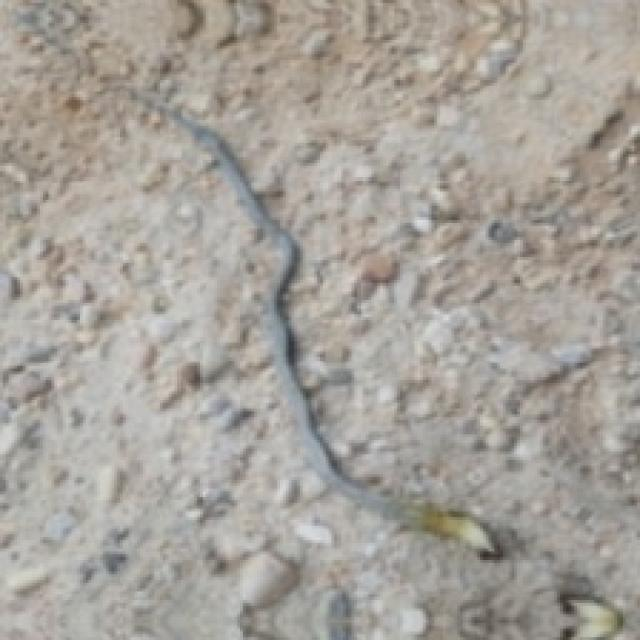king cobra: (134, 63, 637, 551), (117, 83, 500, 557), (560, 546, 637, 637)
